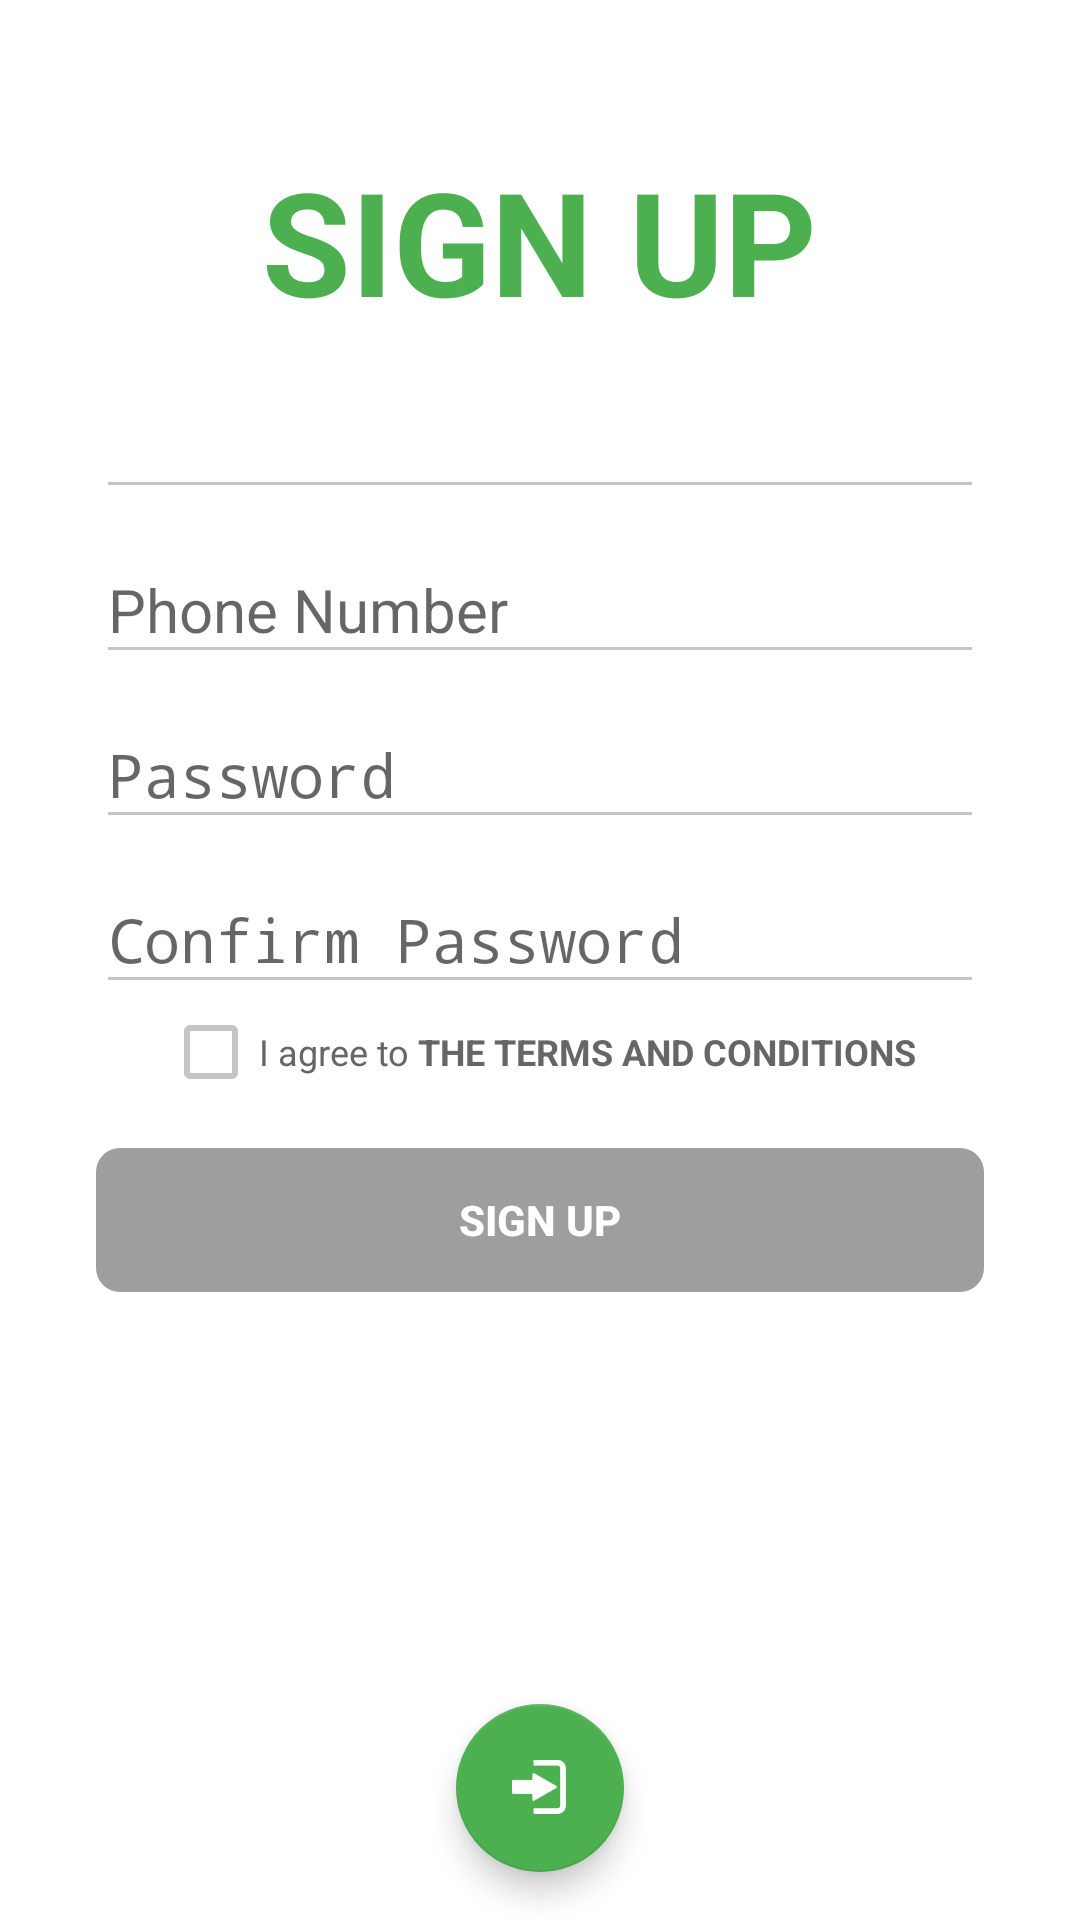

Locate icon controls on the screen. Image size 1080x1920, boxes as (x1, y1, x2, y2).
log in: (456, 1704, 624, 1872)
